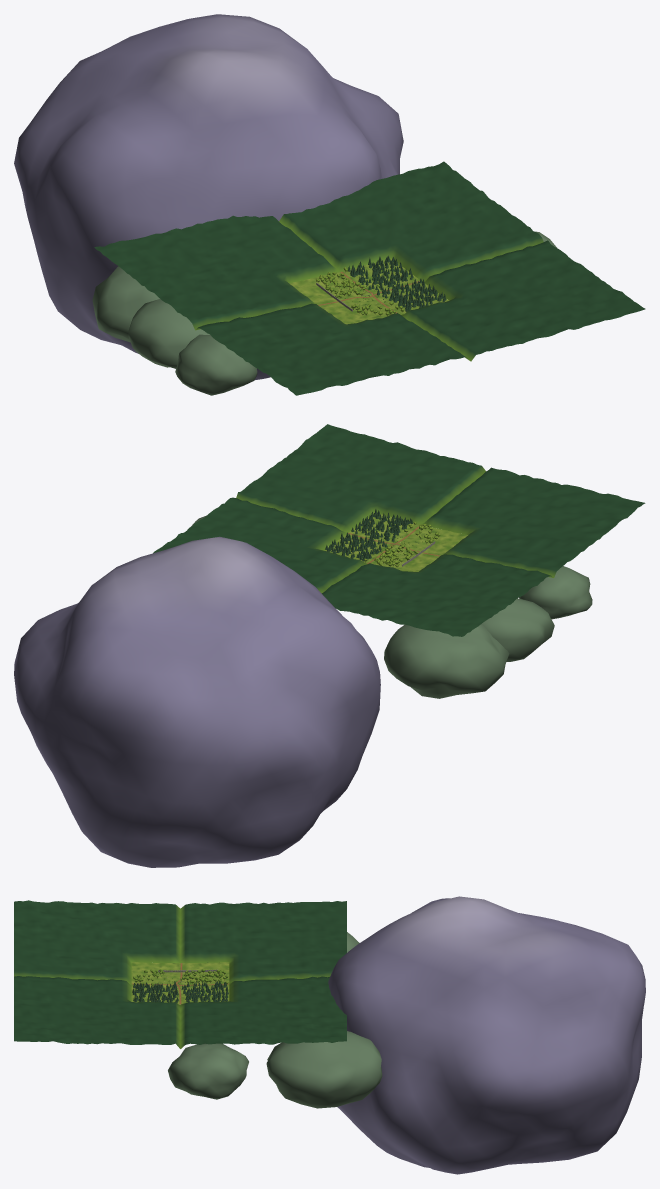
Rendered from grassy-bank.glb.
3 views of the same model, one above another, from view 1: azimuth 30°, elevation 25°; view 2: azimuth 150°, elevation 25°; view 3: azimuth 270°, elevation 25° (orthographic). The views are drawn at different scales.
Visible parts, largest first — view 1: far-mountain, far-forest, ground, trees-firs, trees-leaves; view 2: far-mountain, far-forest, ground, trees-firs, trees-leaves; view 3: far-mountain, far-forest, ground, trees-firs, trees-leaves.
Part boxes in pixels (<box>): far-mountain: <box>14,14,556,395</box>; far-forest: <box>94,161,645,395</box>; ground: <box>289,258,449,324</box>; trees-firs: <box>348,255,446,311</box>; trees-leaves: <box>316,267,404,315</box>; far-mountain: <box>14,515,592,867</box>; far-forest: <box>153,424,645,636</box>; ground: <box>323,513,467,571</box>; trees-firs: <box>325,509,412,561</box>; trees-leaves: <box>364,521,440,566</box>; far-mountain: <box>168,896,645,1174</box>; far-forest: <box>14,900,346,1048</box>; ground: <box>131,962,229,1004</box>; trees-firs: <box>132,980,228,1003</box>; trees-leaves: <box>133,969,228,985</box>.
Size of the model in its own units: 812 by 564 by 1290.
